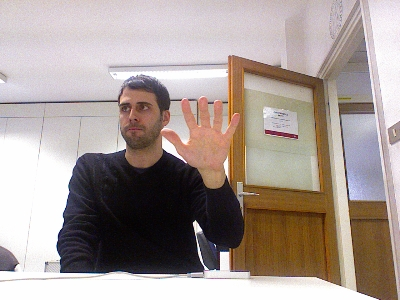布: (157, 95, 240, 169)
